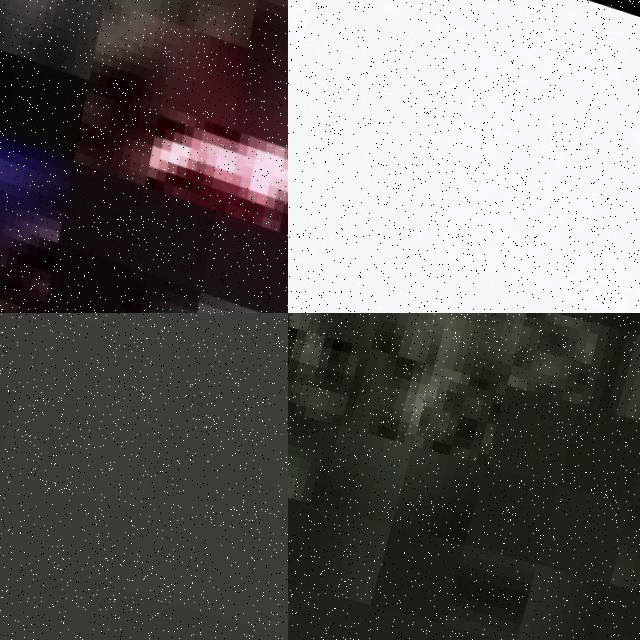drone: (288, 0, 640, 313), (0, 0, 288, 313)
